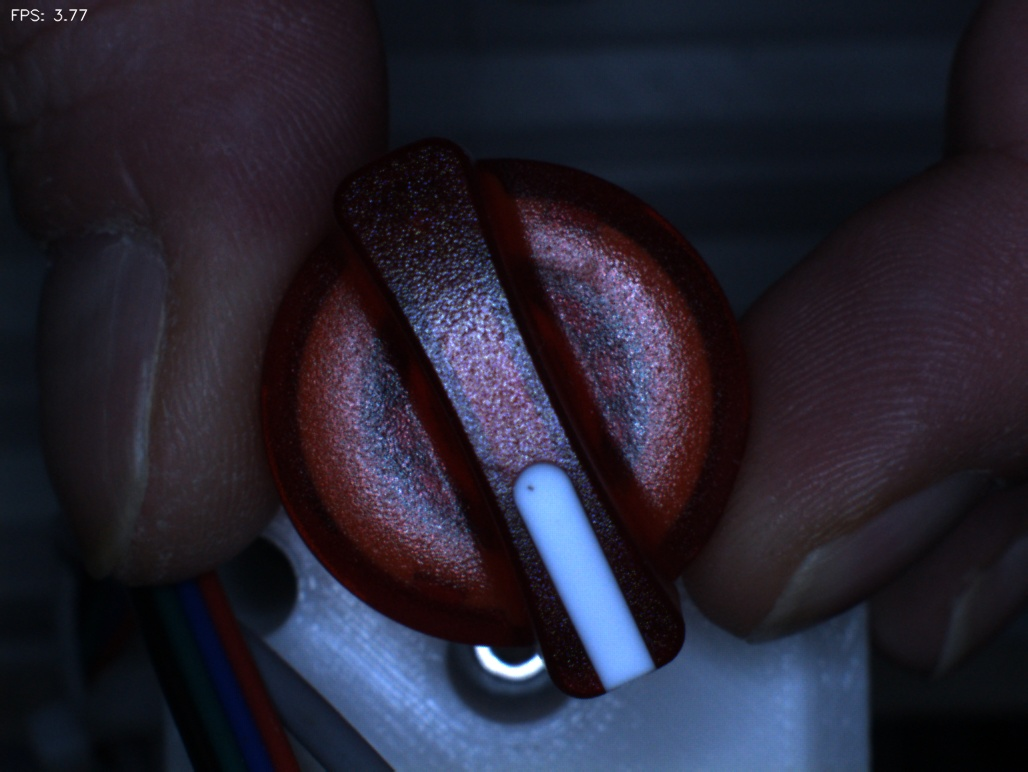PointNoir: (490, 446, 565, 528)
